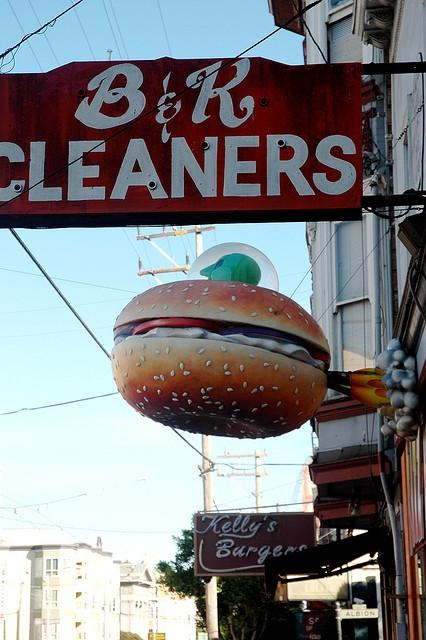tomato: (132, 318, 223, 334)
